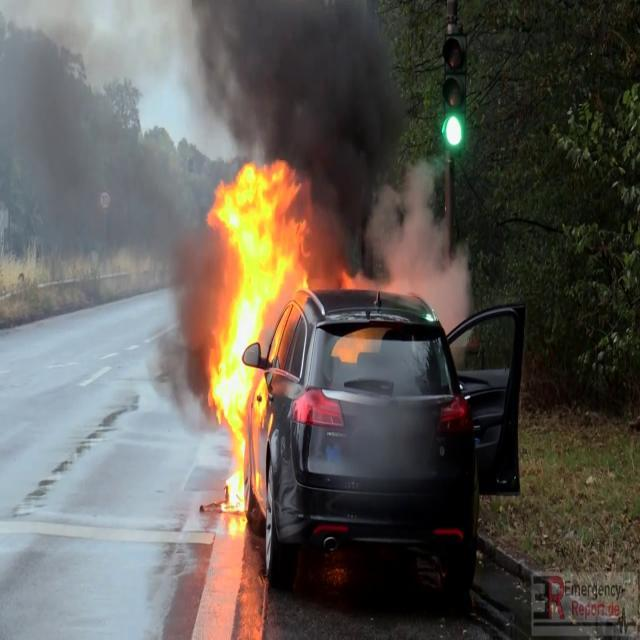Fire: (200, 155, 314, 521)
Smoke: (0, 0, 204, 305), (184, 1, 432, 244)
